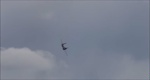maybay_muctieu: (59, 37, 71, 58)
